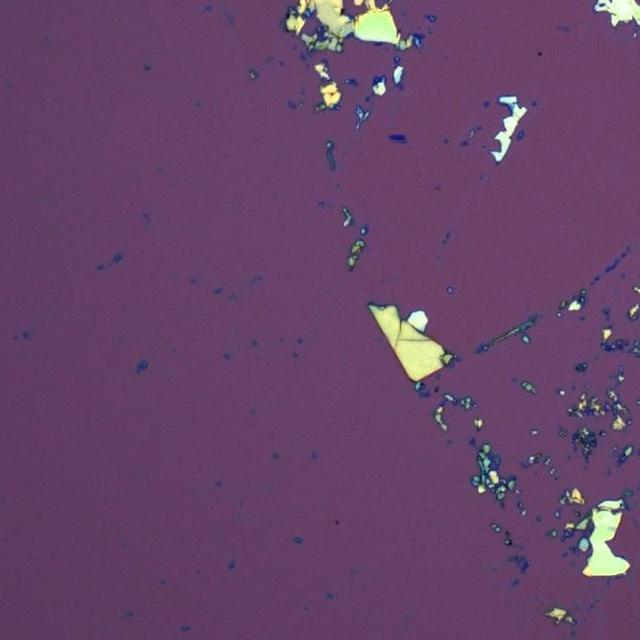monolayer-eWW4: (556, 24, 570, 32)
